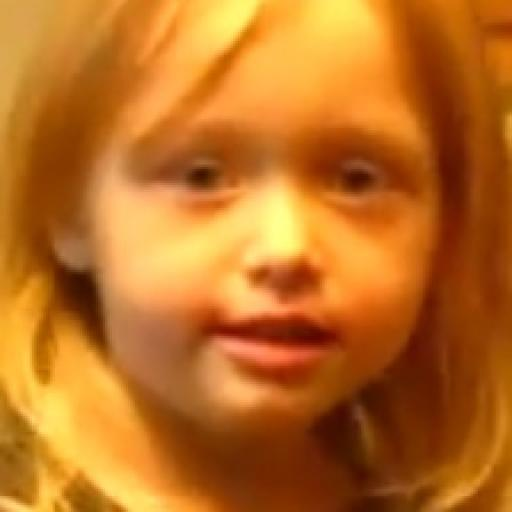Autism: (49, 10, 443, 504)
